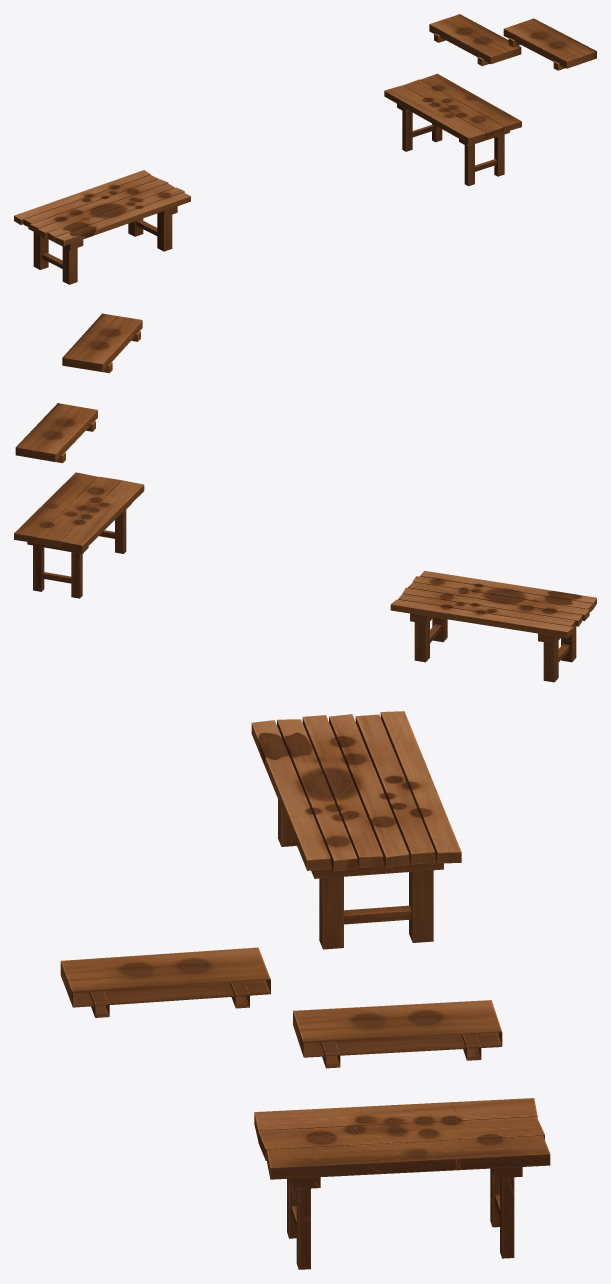
File: Mesas.fbx
3 renders of one model, top to bottom at view 1: azimuth 30°, elevation 25°; view 2: azimuth 150°, elevation 25°; view 3: azimuth 270°, elevation 25°, orthographic. The views are drawn at different scales.
Visible parts, largest first — view 1: Mesa02; view 2: Mesa02; view 3: Mesa02.
Boxes of the visible parts, x1=… form: Mesa02: x1=14, y1=14, x2=596, y2=284; Mesa02: x1=14, y1=313, x2=596, y2=682; Mesa02: x1=60, y1=711, x2=550, y2=1269.
Bounding box in the file's own units: 944 × 281 × 400.
